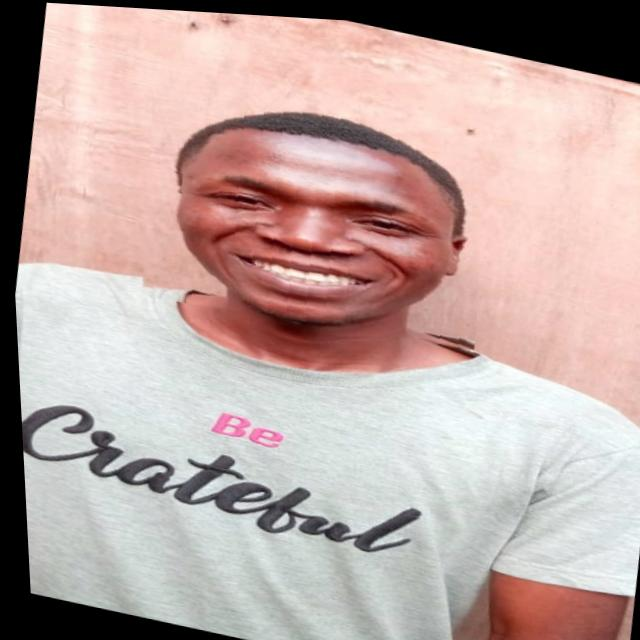happy: (122, 69, 501, 359)
